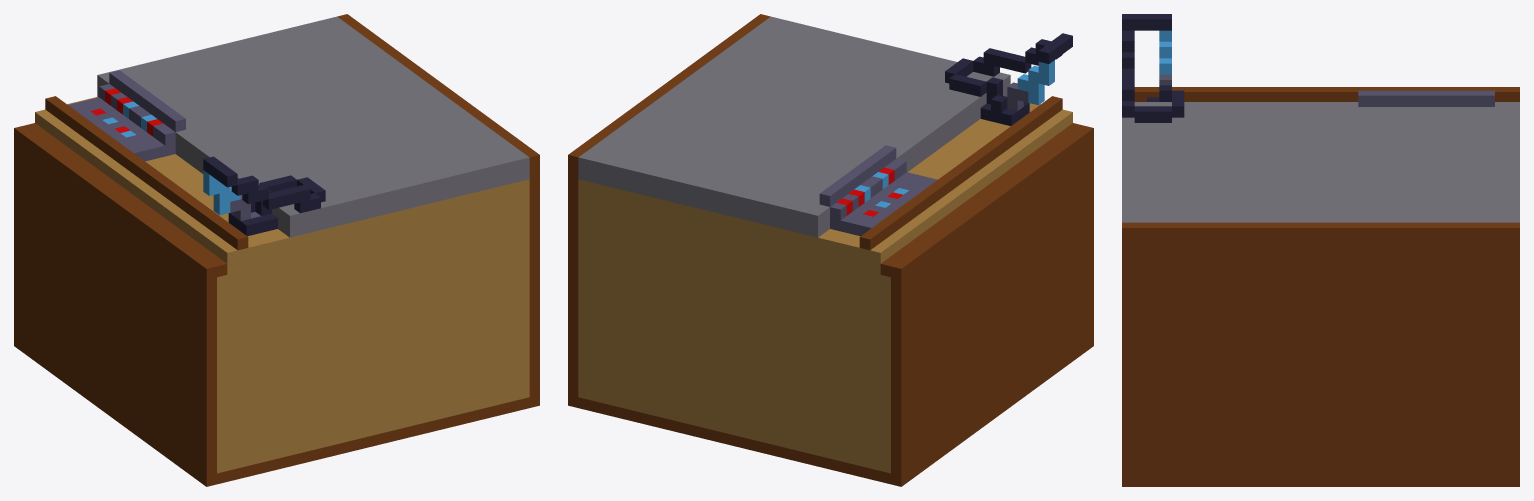
File: établieSoudage.obj
The picture shows the model from 3 angles, left to right: view 1: azimuth 30°, elevation 25°; view 2: azimuth 150°, elevation 25°; view 3: azimuth 270°, elevation 25°; orthographic projection. The views are drawn at different scales.
Size of the model in its own units: 3.2 by 2.8 by 3.2.
1 material, 1 textured.
